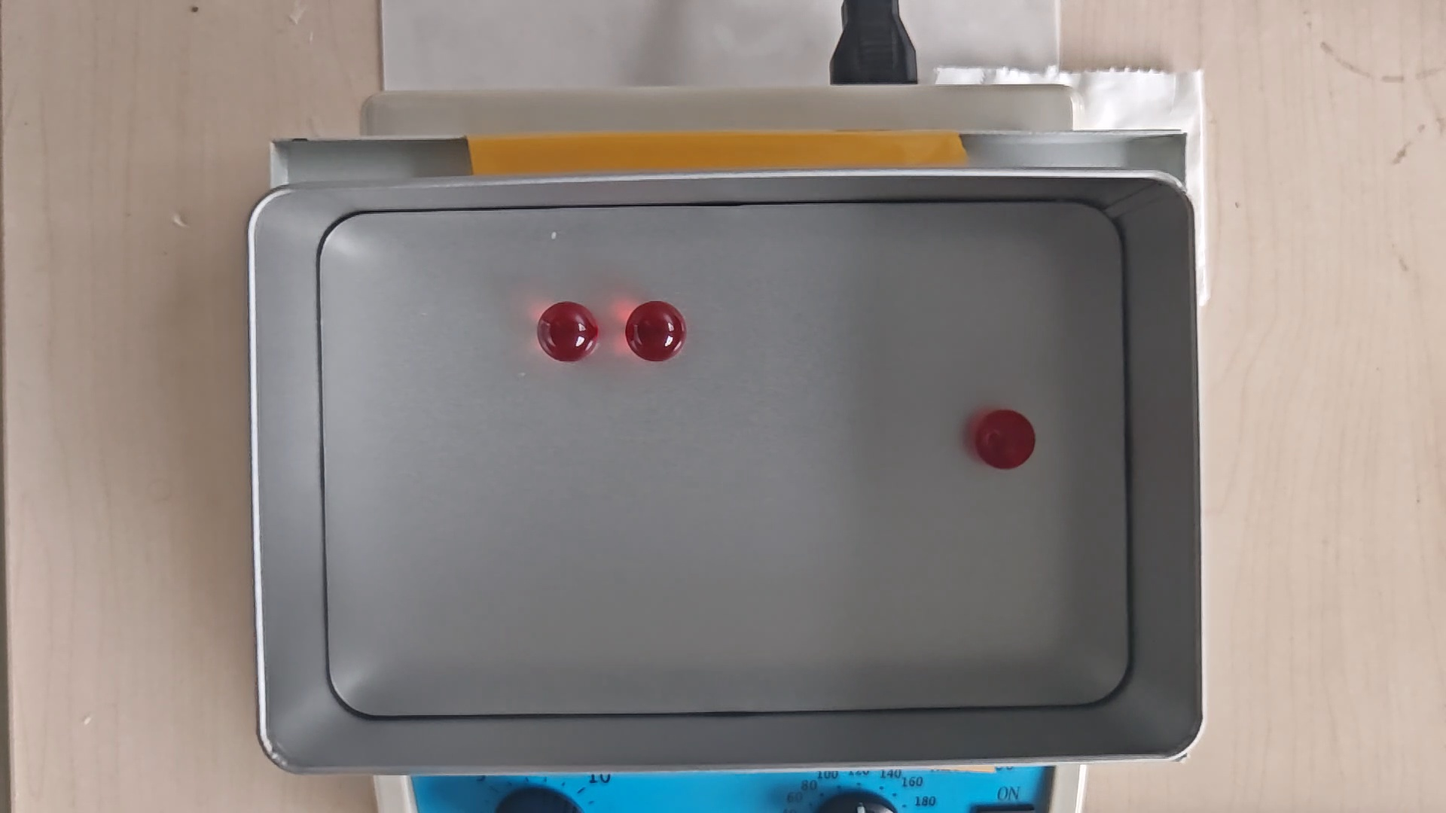ball: (623, 302, 685, 364), (974, 409, 1034, 469), (537, 300, 596, 361)
container: (323, 201, 1128, 714)
